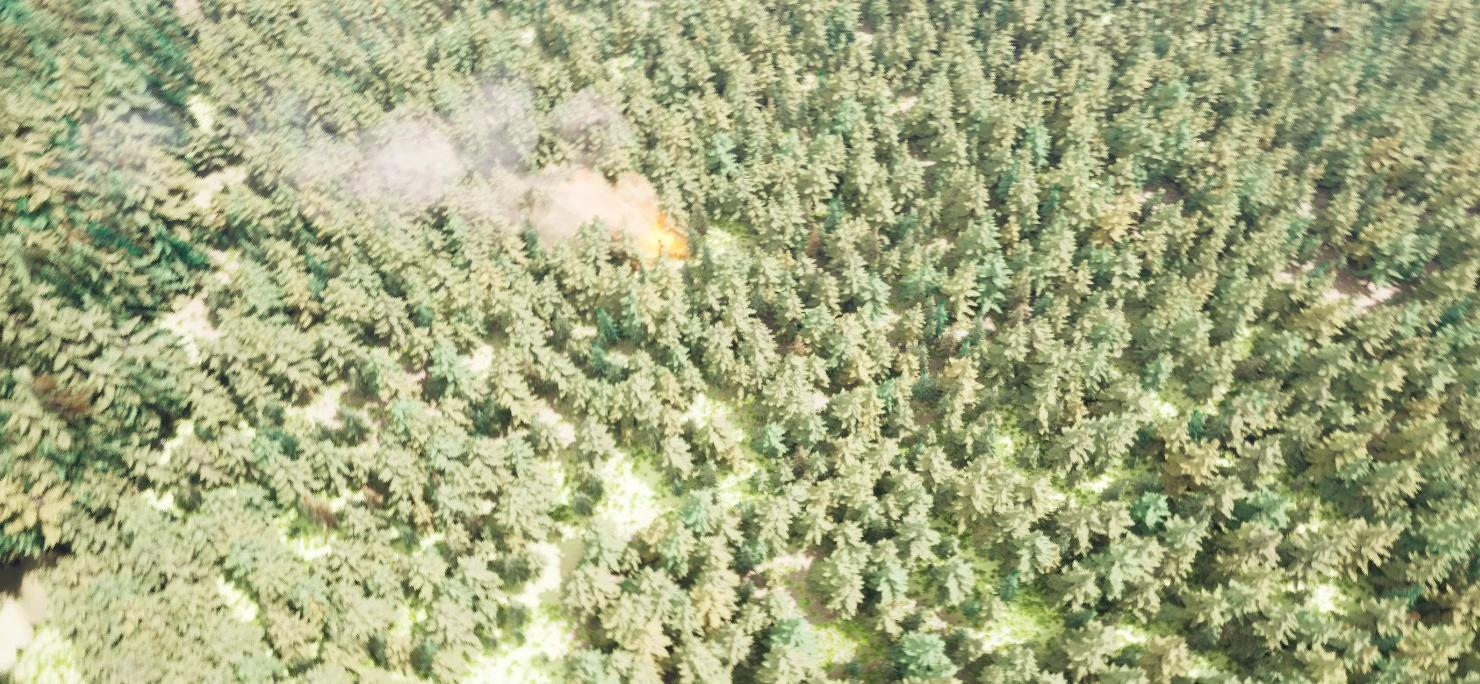fire: (639, 224, 690, 263)
smoke: (267, 75, 654, 250)
